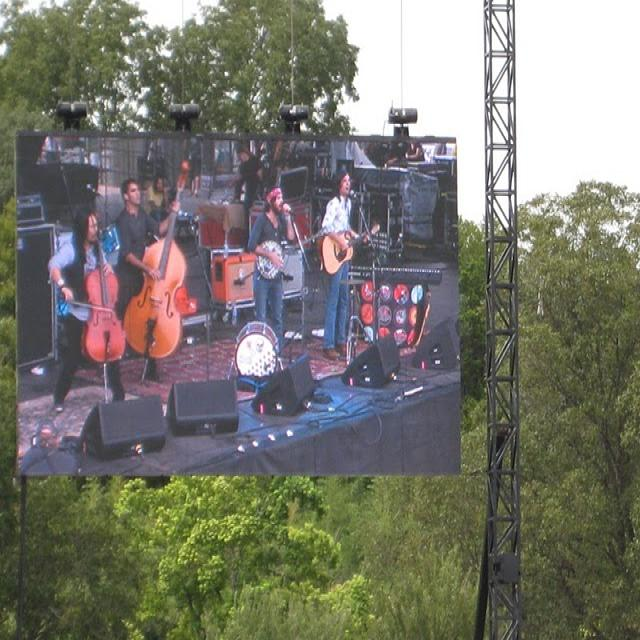cello: (81, 226, 124, 364)
drums: (232, 319, 280, 385)
guitar: (318, 223, 381, 275)
